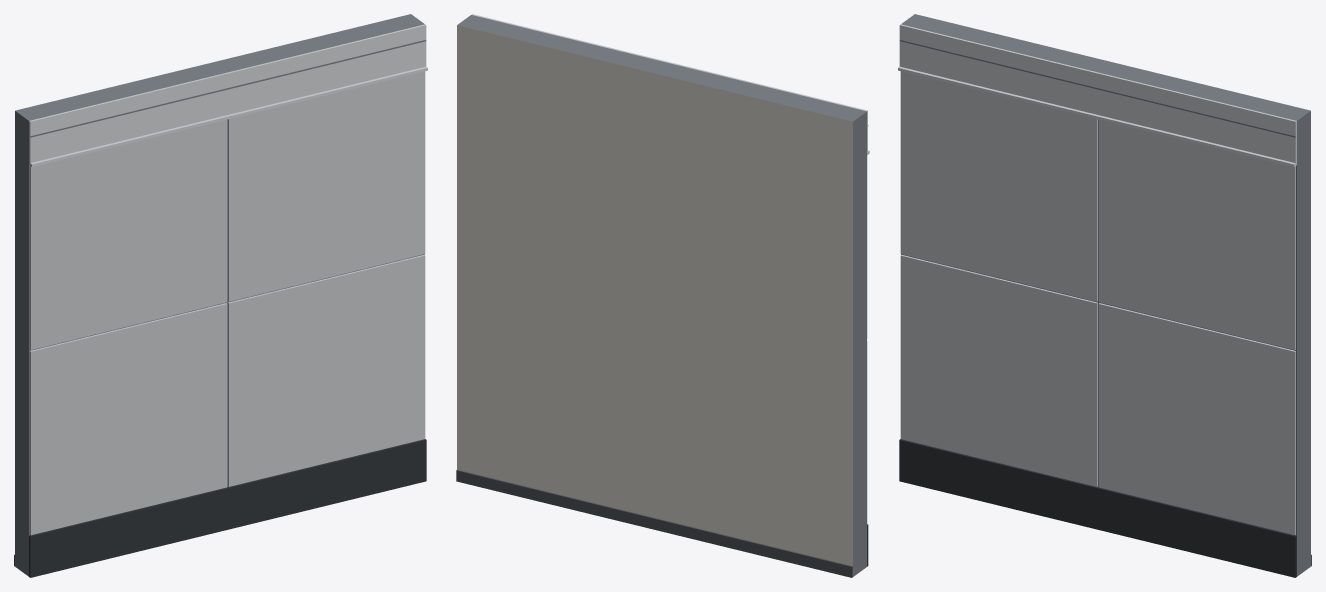
Rendered from SC_Bld_Store_Wall_Side_3m.gltf.
The picture shows the model from 3 angles, left to right: view 1: azimuth 30°, elevation 25°; view 2: azimuth 150°, elevation 25°; view 3: azimuth 330°, elevation 25°; orthographic projection.
Parts seen in each view (by area): view 1: SC_Bld_Store_Wall_Side_3m; view 2: SC_Bld_Store_Wall_Side_3m; view 3: SC_Bld_Store_Wall_Side_3m.
Part boxes in pixels (left/top/right/bottom): SC_Bld_Store_Wall_Side_3m: left=14, top=14, right=427, bottom=577; SC_Bld_Store_Wall_Side_3m: left=456, top=14, right=869, bottom=577; SC_Bld_Store_Wall_Side_3m: left=898, top=14, right=1311, bottom=577.
Bounding box in the file's own units: 3 × 3.3 × 0.234.
Materials: 1 (1 with a texture image).
